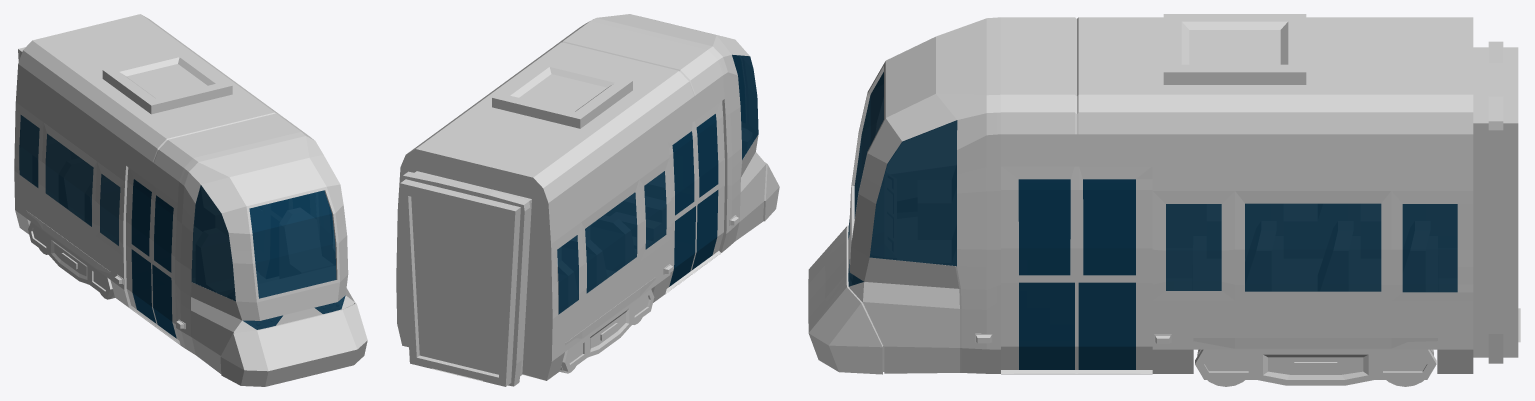
The model's file is tram_engine_seperate_wheels_seperate_doors.fbx.
3 views of the same model, side by side, from view 1: azimuth 30°, elevation 25°; view 2: azimuth 150°, elevation 25°; view 3: azimuth 270°, elevation 25° (orthographic). The views are drawn at different scales.
Parts seen in each view (by area): view 1: tram_engine, tram_engine_glass, tram_front_door_right_02, tram_front_door_right_01, tram_engine_wedge; view 2: tram_engine, tram_engine_glass, tram_front_door_right_01, tram_front_door_right_02, tram_engine_wedge; view 3: tram_engine, tram_engine_glass, tram_front_door_left_01, tram_front_door_left_02, tram_engine_wedge.
Boxes of the visible parts, x1=… form: tram_engine: x1=14, y1=14, x2=367, y2=386; tram_engine_glass: x1=19, y1=115, x2=345, y2=329; tram_front_door_right_02: x1=126, y1=167, x2=156, y2=326; tram_front_door_right_01: x1=151, y1=187, x2=180, y2=345; tram_engine_wedge: x1=28, y1=222, x2=113, y2=297; tram_engine: x1=396, y1=14, x2=779, y2=386; tram_engine_glass: x1=557, y1=54, x2=758, y2=314; tram_front_door_right_01: x1=691, y1=101, x2=724, y2=273; tram_front_door_right_02: x1=665, y1=122, x2=696, y2=293; tram_engine_wedge: x1=561, y1=289, x2=654, y2=371; tram_engine: x1=808, y1=14, x2=1520, y2=374; tram_engine_glass: x1=848, y1=72, x2=1457, y2=292; tram_front_door_left_01: x1=1001, y1=166, x2=1076, y2=374; tram_front_door_left_02: x1=1077, y1=166, x2=1152, y2=374; tram_engine_wedge: x1=1195, y1=349, x2=1436, y2=385.
Size of the model in its own units: 353 by 453 by 985.
